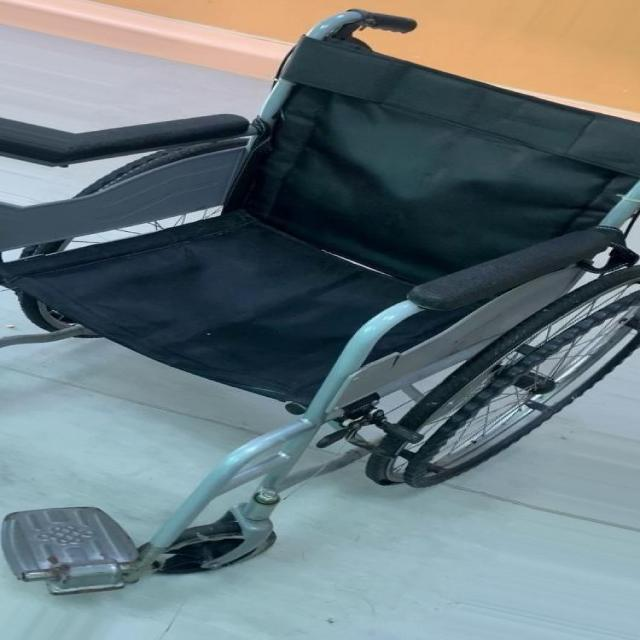wheelchair: (1, 0, 640, 616)
